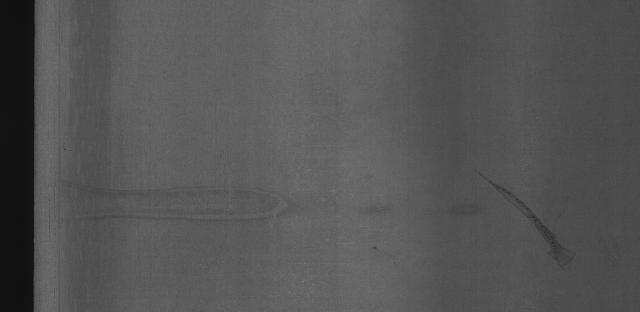water_spot: (481, 172, 592, 276)
